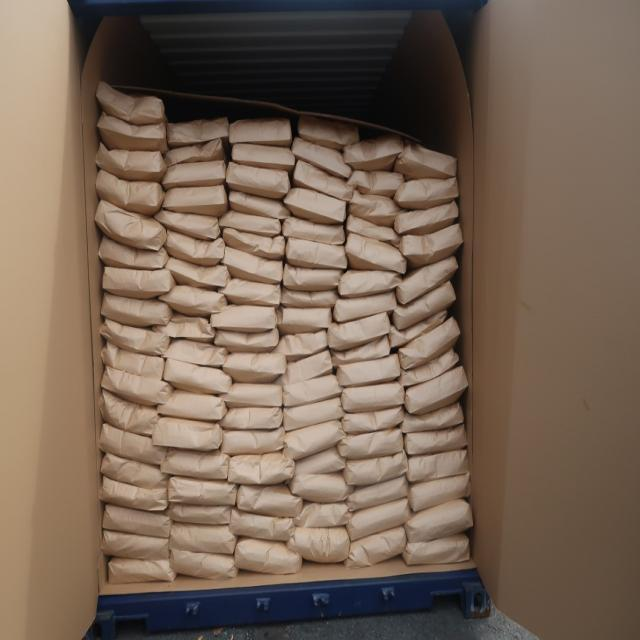gunny_bag: (94, 199, 168, 250), (401, 362, 466, 414), (398, 317, 460, 371), (98, 78, 169, 124), (403, 496, 471, 543), (95, 168, 163, 214), (392, 282, 457, 330), (396, 256, 459, 304), (100, 366, 174, 406), (347, 498, 412, 543), (99, 424, 168, 466), (398, 224, 463, 268), (345, 526, 408, 570), (98, 391, 159, 436), (100, 318, 172, 356), (234, 538, 304, 576), (408, 472, 474, 512), (151, 417, 224, 453), (284, 419, 346, 461), (96, 116, 168, 152), (389, 308, 450, 350), (162, 358, 232, 394), (292, 160, 355, 200), (99, 452, 169, 488), (344, 232, 406, 272), (327, 312, 392, 350), (283, 187, 348, 225), (96, 147, 168, 181), (102, 294, 174, 328), (102, 476, 170, 512), (227, 450, 294, 486), (237, 482, 304, 518), (292, 139, 352, 179), (288, 525, 351, 563), (395, 140, 458, 178), (402, 534, 472, 568), (102, 506, 172, 540), (100, 344, 168, 379), (343, 450, 409, 486), (224, 162, 290, 198), (222, 248, 284, 286), (170, 520, 238, 554), (156, 391, 226, 424), (102, 266, 174, 298), (98, 238, 170, 270), (398, 348, 458, 386), (228, 508, 295, 542), (346, 475, 409, 511), (336, 354, 402, 388), (394, 200, 460, 234), (156, 286, 226, 318), (169, 548, 238, 580), (403, 424, 467, 458), (164, 450, 232, 482), (283, 397, 345, 432), (164, 257, 229, 290), (336, 428, 403, 460), (153, 208, 220, 240), (299, 116, 362, 150), (100, 531, 171, 561), (222, 351, 286, 384), (400, 402, 466, 434), (406, 448, 468, 482), (162, 232, 224, 266), (282, 373, 344, 407), (168, 478, 238, 508), (341, 380, 406, 412), (221, 227, 286, 259), (285, 237, 348, 270), (278, 348, 332, 386), (394, 176, 458, 208), (163, 183, 229, 214), (343, 136, 403, 170), (333, 290, 397, 321), (288, 474, 353, 504), (228, 190, 292, 220), (216, 277, 282, 306), (220, 428, 286, 457), (280, 215, 346, 244), (210, 304, 278, 332), (340, 404, 403, 434), (162, 159, 227, 188), (160, 340, 227, 368), (230, 118, 296, 146), (231, 142, 297, 170), (348, 193, 404, 226), (337, 270, 402, 298), (168, 118, 230, 147), (164, 138, 227, 166), (107, 558, 174, 584), (152, 314, 214, 342), (218, 382, 284, 408), (271, 331, 328, 361), (331, 336, 388, 366), (213, 329, 280, 354), (220, 406, 284, 432), (218, 209, 282, 235), (292, 500, 352, 527), (291, 446, 345, 476), (281, 266, 343, 292), (168, 502, 235, 525), (278, 306, 333, 334), (346, 216, 402, 243), (346, 172, 404, 198), (279, 287, 336, 309)
